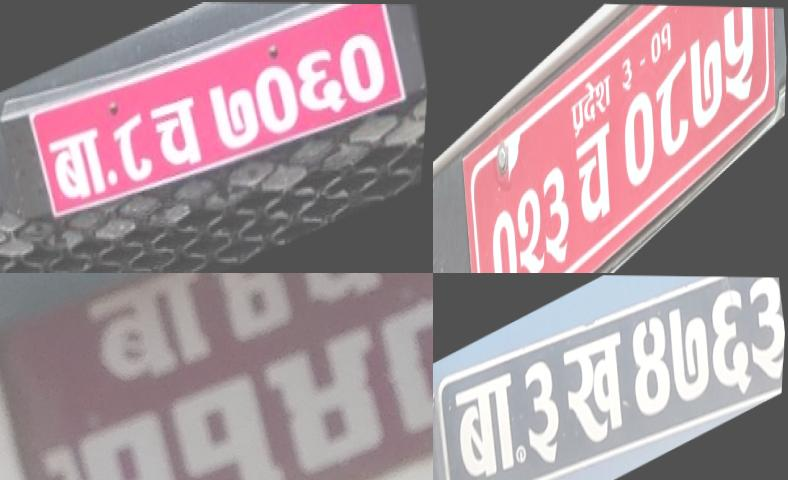0: (364, 276, 433, 441), (331, 14, 396, 111), (246, 48, 307, 146), (618, 73, 662, 205), (489, 192, 525, 273), (648, 24, 663, 71)
1: (156, 360, 305, 480), (660, 13, 674, 58)
2: (513, 168, 552, 273)
3: (514, 349, 575, 478), (737, 276, 788, 395), (538, 144, 579, 273), (618, 49, 637, 99)
4: (251, 316, 413, 480), (193, 273, 316, 353), (622, 304, 680, 428)
5: (716, 5, 762, 120)
6: (700, 276, 760, 406), (290, 34, 354, 132)
7: (23, 395, 215, 480), (660, 286, 720, 412), (683, 7, 729, 145), (201, 66, 266, 161)
8: (650, 38, 697, 176), (106, 101, 166, 194)
ba: (70, 273, 234, 394), (448, 361, 530, 480), (42, 115, 116, 216)
cha: (571, 103, 623, 248), (144, 80, 214, 184), (276, 273, 405, 315)
kha: (556, 316, 640, 458)
